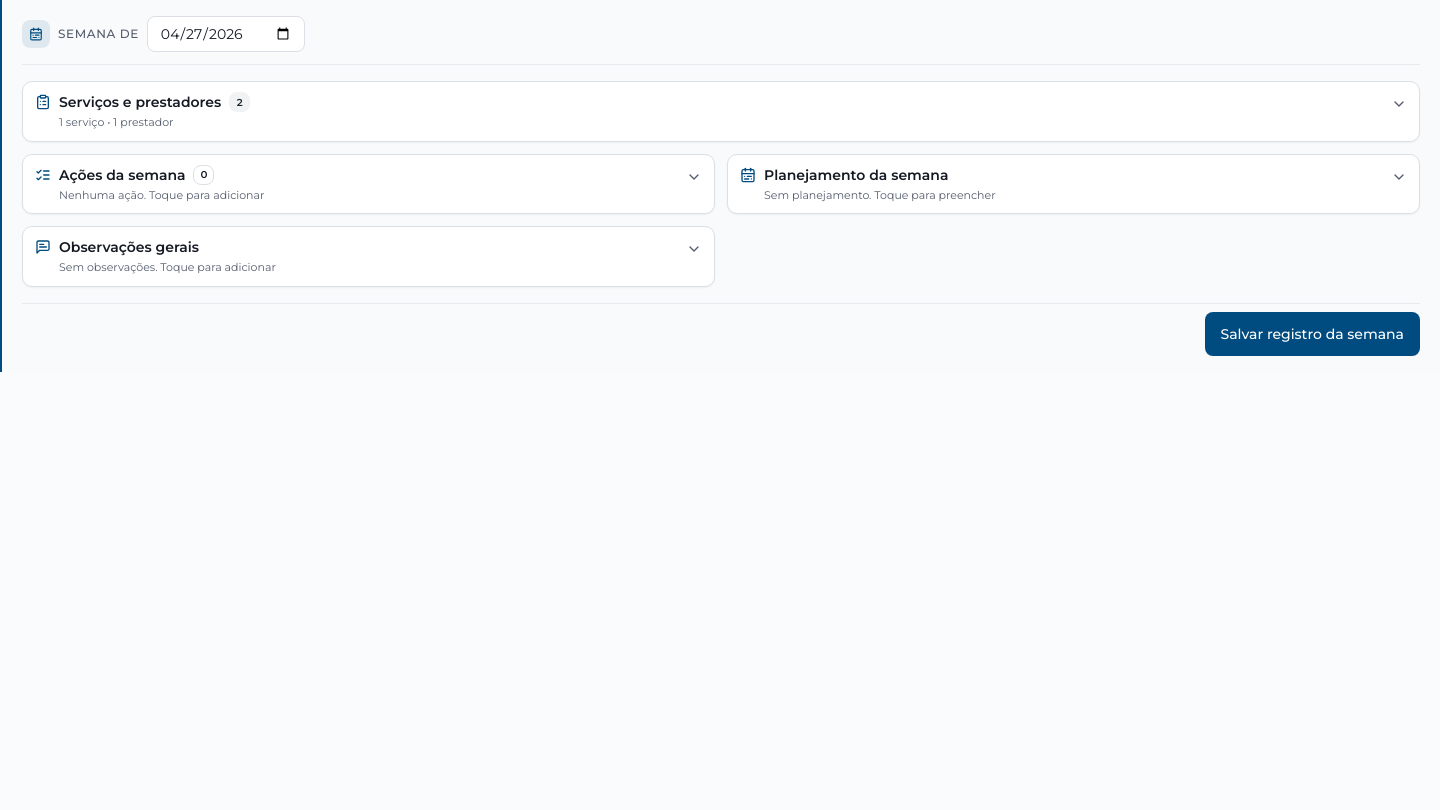
Scenario: DailyLogInline — seção unificada Serviços e prestadores › renderiza as duas subseções (Serviços + Prestadores) dentro de um único card
The image size is (1440, 810).
Click the button "Serviços e prestadores 2 1 serviço • 1 prestador". click: [140, 102]
box: left=23, top=82, right=1419, bottom=140
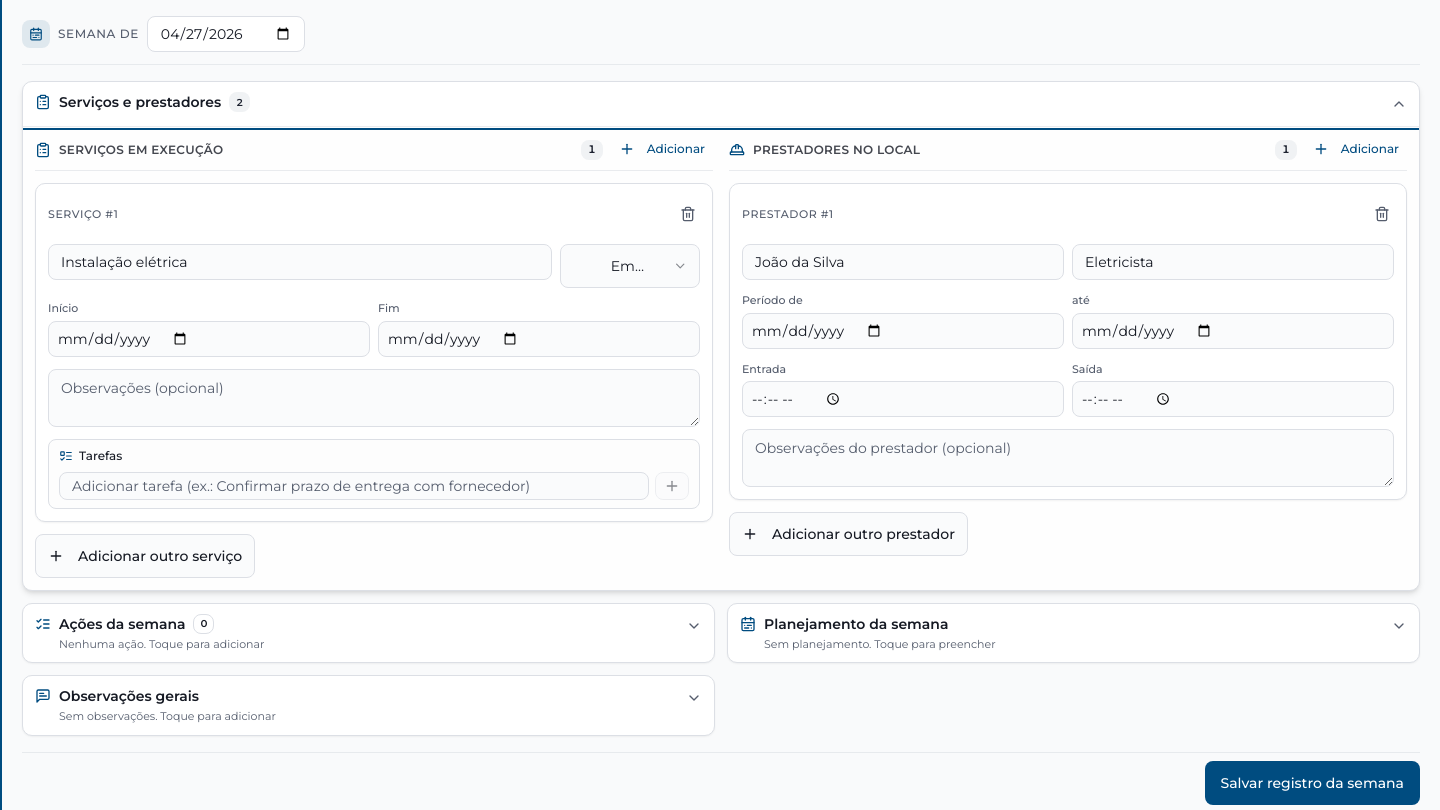
Now the heading "Serviços em execução" is shown, box left=59, top=142, right=223, bottom=158
Now the heading "Prestadores no local" is shown, box left=753, top=142, right=920, bottom=158
Now the field showing "Instalação elétrica" below "Serviço #" is shown, box left=48, top=244, right=552, bottom=280
